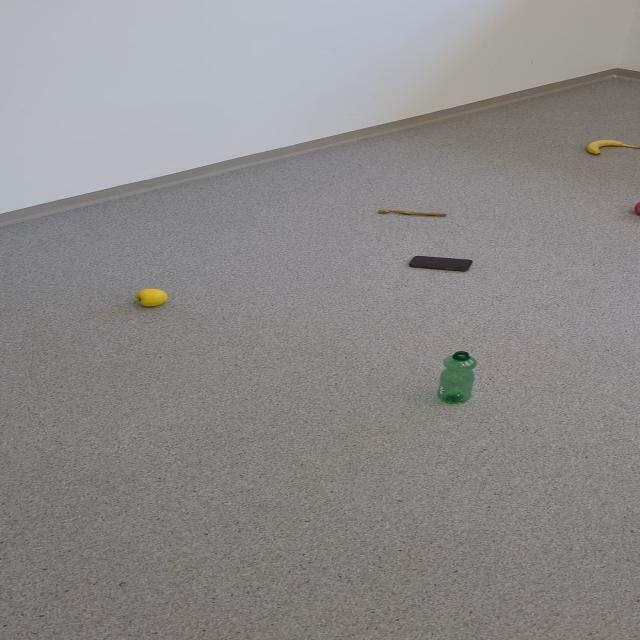apple: (134, 288, 168, 307)
banana: (585, 139, 639, 155)
bottle: (436, 350, 477, 404)
phone: (407, 255, 472, 272)
